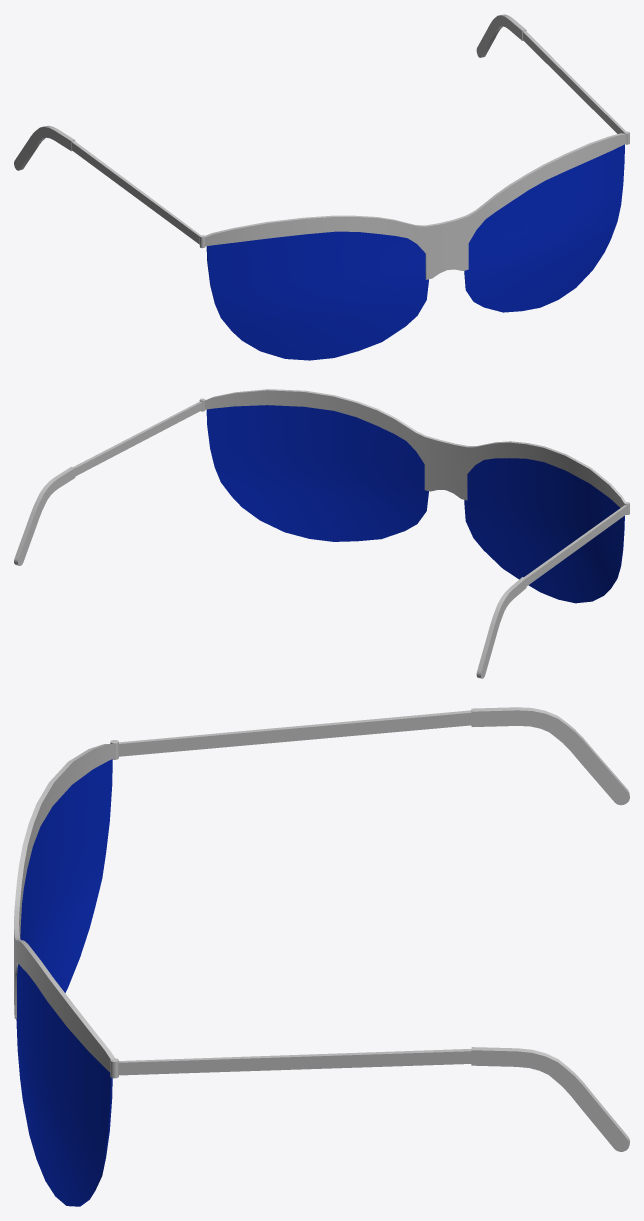
File: glasses14.001.obj
3 renders of one model, top to bottom at view 1: azimuth 30°, elevation 25°; view 2: azimuth 150°, elevation 25°; view 3: azimuth 270°, elevation 25°, orthographic. The views are drawn at different scales.
Parts seen in each view (by area): view 1: glasses14.001_glasses14.001_Blue, glasses14.001_glasses14.001_black; view 2: glasses14.001_glasses14.001_Blue, glasses14.001_glasses14.001_black; view 3: glasses14.001_glasses14.001_Blue, glasses14.001_glasses14.001_black.
Boxes of the visible parts, x1=… form: glasses14.001_glasses14.001_Blue: x1=206, y1=144, x2=624, y2=360; glasses14.001_glasses14.001_black: x1=14, y1=14, x2=629, y2=279; glasses14.001_glasses14.001_Blue: x1=206, y1=405, x2=624, y2=603; glasses14.001_glasses14.001_black: x1=14, y1=389, x2=629, y2=678; glasses14.001_glasses14.001_Blue: x1=16, y1=759, x2=112, y2=1206; glasses14.001_glasses14.001_black: x1=14, y1=707, x2=629, y2=1151.
Size of the model in its own units: 2.11 by 0.6297 by 1.57.
